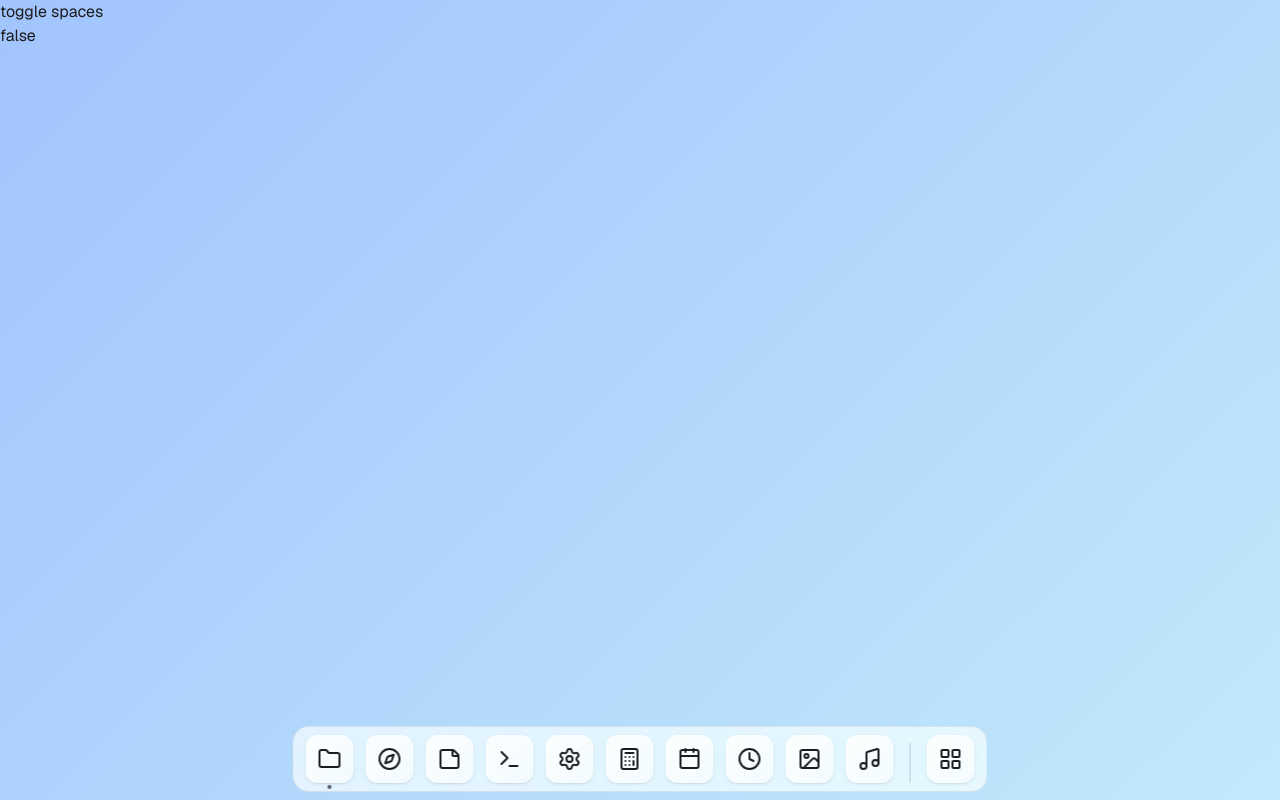
Test: SpacesView › renders when Mission Control is toggled from the Dock
Click the button with test id "dock-mission-control".
click(950, 759)  # box [926,735,974,783]
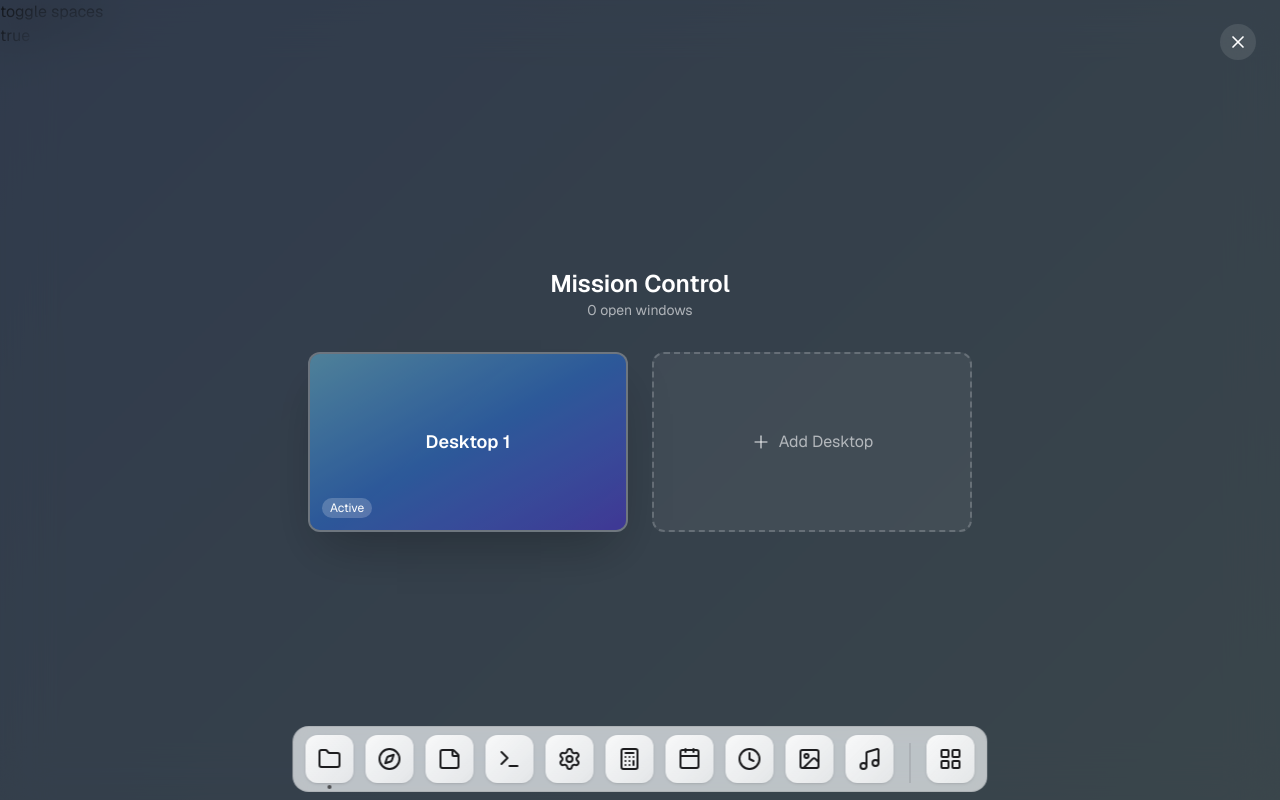
expect the element with test id "spaces-view" is shown: met
expect the button with test id "spaces-desktop-1" is shown: met, box [308,352,628,532]
expect the button with test id "spaces-add-desktop" is shown: met, box [652,352,972,532]
